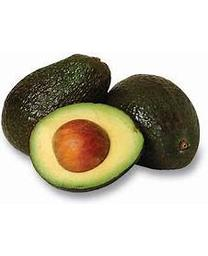avocado: (1, 53, 111, 156), (30, 102, 145, 193), (105, 73, 201, 171)
